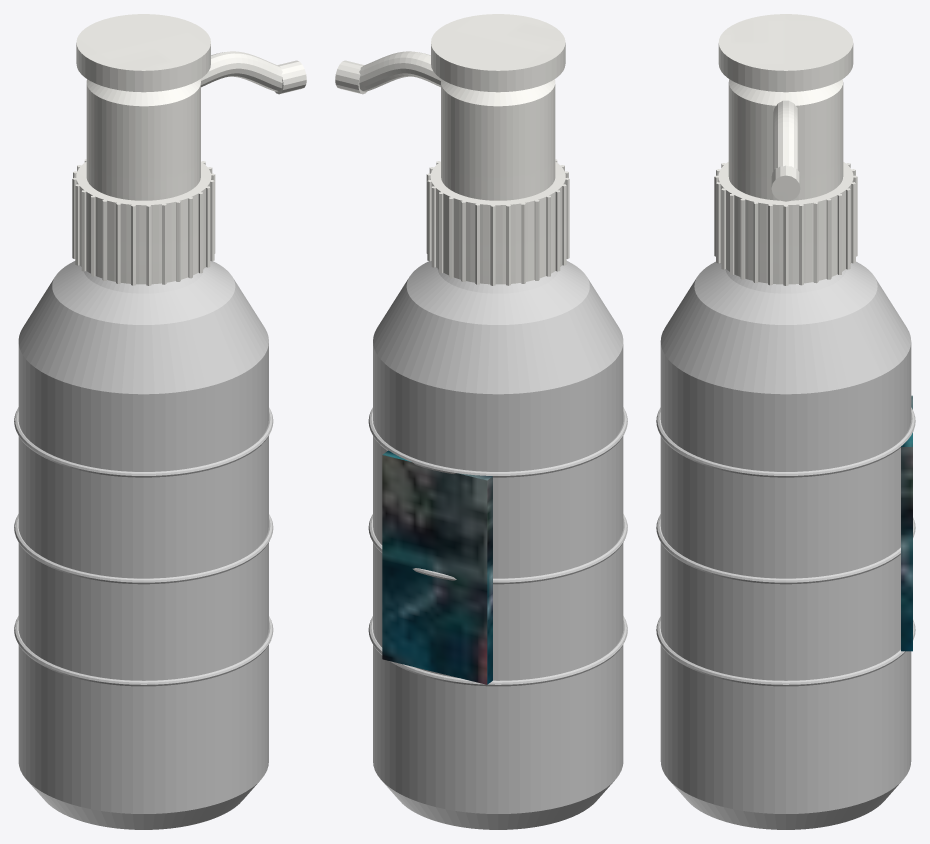
File: Container_Dispenser__0000.glb
3 views of the same model, side by side, from view 1: azimuth 30°, elevation 25°; view 2: azimuth 150°, elevation 25°; view 3: azimuth 270°, elevation 25° (orthographic).
Visible parts, largest first — view 1: bottle::bottle_shell, pump_head::pump_head_shell, collar::collar_shell, spout::spout_shell; view 2: bottle::bottle_shell, bottle::front_label, pump_head::pump_head_shell, collar::collar_shell, spout::spout_shell; view 3: bottle::bottle_shell, pump_head::pump_head_shell, collar::collar_shell, spout::spout_shell, bottle::front_label.
Part boxes in pixels (x1=…): bottle::bottle_shell: x1=14, y1=261, x2=273, y2=829; pump_head::pump_head_shell: x1=76, y1=14, x2=210, y2=200; collar::collar_shell: x1=72, y1=159, x2=215, y2=285; spout::spout_shell: x1=200, y1=51, x2=306, y2=94; bottle::bottle_shell: x1=368, y1=261, x2=627, y2=829; bottle::front_label: x1=382, y1=450, x2=492, y2=684; pump_head::pump_head_shell: x1=431, y1=14, x2=565, y2=200; collar::collar_shell: x1=426, y1=159, x2=569, y2=285; spout::spout_shell: x1=335, y1=51, x2=441, y2=94; bottle::bottle_shell: x1=656, y1=261, x2=915, y2=829; pump_head::pump_head_shell: x1=718, y1=14, x2=853, y2=200; collar::collar_shell: x1=714, y1=162, x2=857, y2=285; spout::spout_shell: x1=771, y1=100, x2=800, y2=201; bottle::front_label: x1=901, y1=395, x2=912, y2=651.
Bounding box in the file's own units: 0.092 × 0.2437 × 0.077.
Materials: 5 (4 with a texture image).
